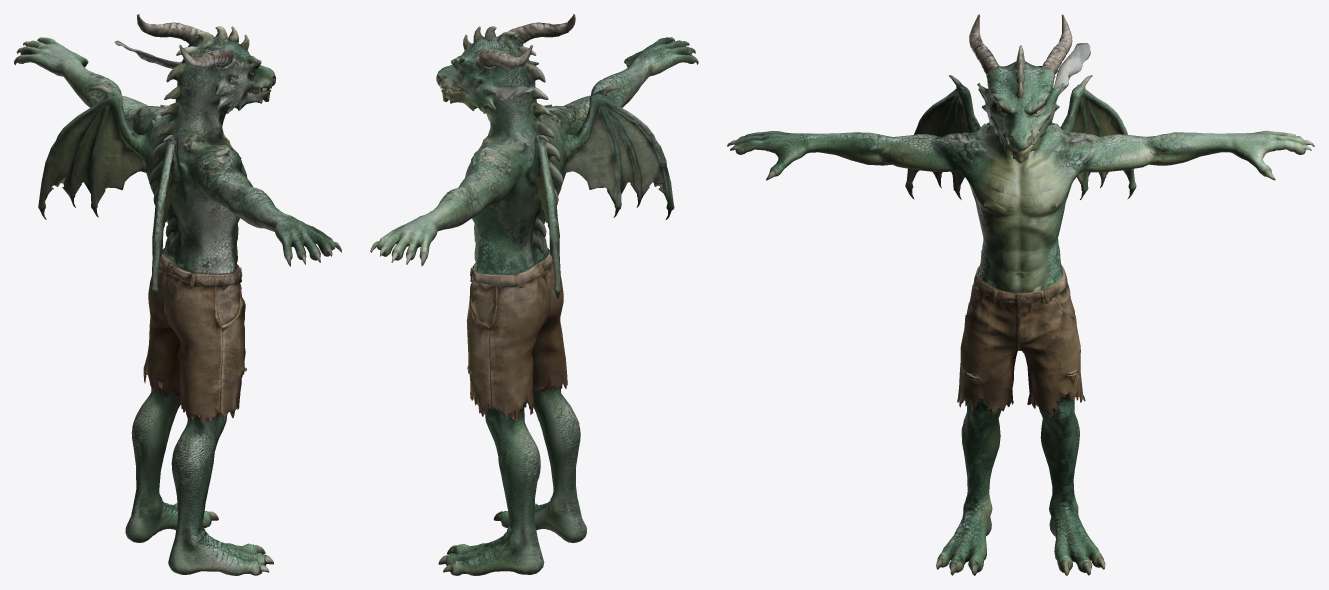
The model's file is the-dragon.glb.
The picture shows the model from 3 angles, left to right: view 1: azimuth 30°, elevation 25°; view 2: azimuth 150°, elevation 25°; view 3: azimuth 270°, elevation 25°; orthographic projection.
Parts seen in each view (by area): view 1: 05-dragon; view 2: 05-dragon; view 3: 05-dragon.
Part boxes in pixels (<box>): 05-dragon: <box>14,14,341,575</box>; 05-dragon: <box>370,14,698,575</box>; 05-dragon: <box>727,14,1314,575</box>.
Size of the model in its own units: 0.3426 by 0.9645 by 0.9776.
1 material, 1 textured.
